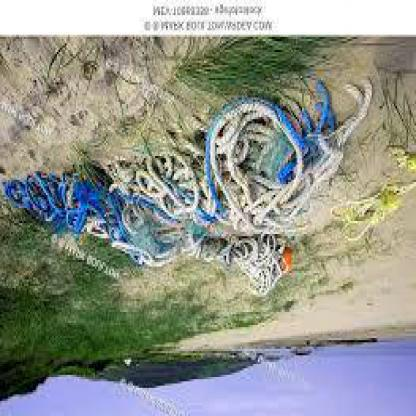Plastic: (31, 139, 323, 260)
